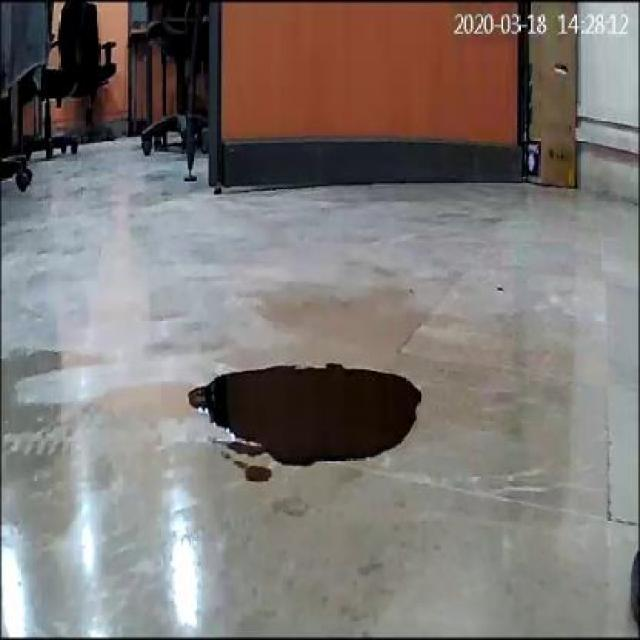spill: (180, 364, 422, 472)
